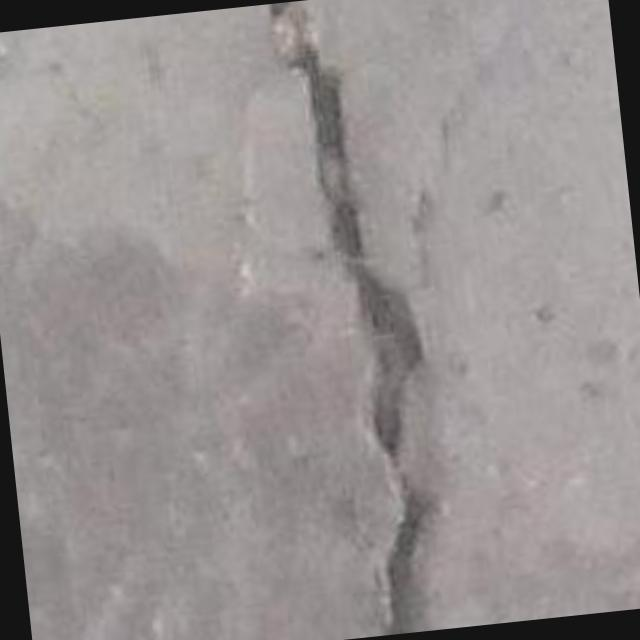crack: (268, 1, 431, 634)
